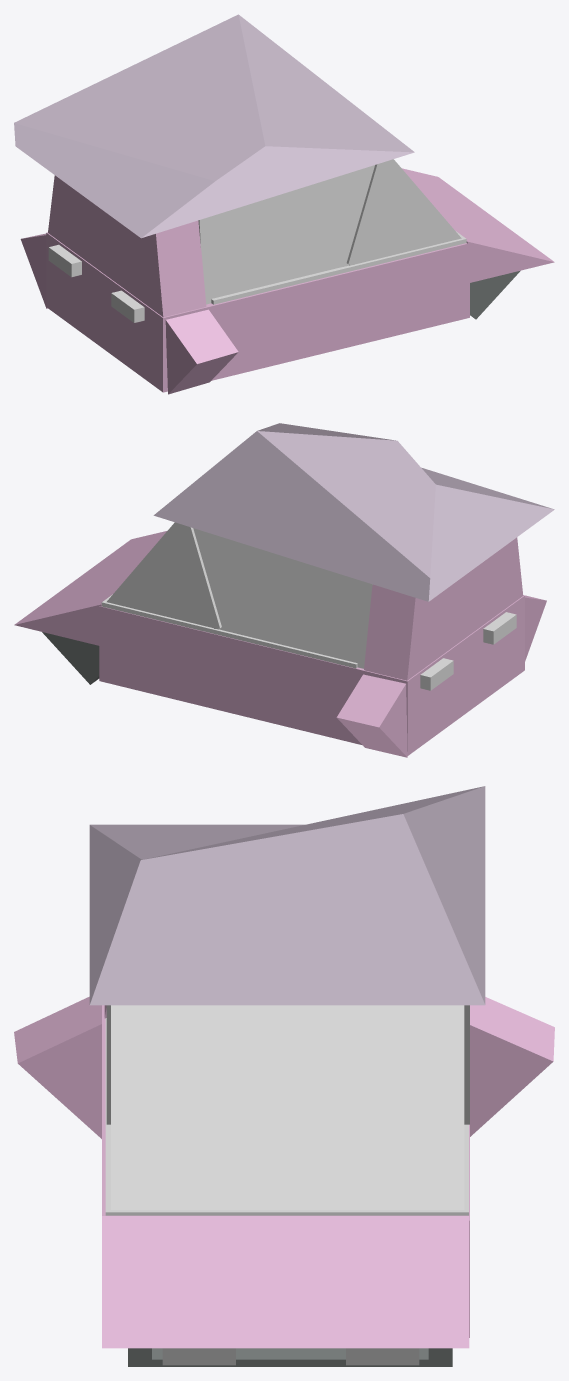
The model's file is cabv3.fbx.
The picture shows the model from 3 angles, top to bottom: view 1: azimuth 30°, elevation 25°; view 2: azimuth 150°, elevation 25°; view 3: azimuth 270°, elevation 25°; orthographic projection. The views are drawn at different scales.
Visible parts, largest first — view 1: Cube.010, Cube, Cube.007, Cube.013, Cube.012, Cube.006, Cube.001, Cube.014, Cube.008, Cube.002, Cube.011, Cube.009 (+2 smaller); view 2: Cube.010, Cube, Cube.007, Cube.013, Cube.012, Cube.006, Cube.001, Cube.011, Cube.008, Cube.002, Cube.009, Cube.014 (+2 smaller); view 3: Cube.010, Cube.006, Cube.001, Cube.014, Cube.011, Cube.002, Cube.008, Cube.003, Cube.004, Cube.009, Cube.
Part boxes in pixels (left/top/right/bottom): Cube.010: left=14, top=14, right=414, bottom=238; Cube: left=210, top=243, right=469, bottom=380; Cube.007: left=198, top=165, right=374, bottom=304; Cube.013: left=48, top=175, right=206, bottom=317; Cube.012: left=46, top=232, right=228, bottom=392; Cube.006: left=349, top=159, right=461, bottom=265; Cube.001: left=402, top=168, right=554, bottom=283; Cube.014: left=165, top=309, right=238, bottom=394; Cube.008: left=211, top=231, right=466, bottom=304; Cube.002: left=470, top=270, right=520, bottom=319; Cube.011: left=20, top=233, right=47, bottom=308; Cube.009: left=346, top=162, right=383, bottom=264; Cube.010: left=153, top=423, right=554, bottom=601; Cube: left=99, top=606, right=357, bottom=743; Cube.007: left=193, top=528, right=372, bottom=668; Cube.013: left=364, top=537, right=523, bottom=680; Cube.012: left=341, top=595, right=524, bottom=755; Cube.006: left=107, top=522, right=218, bottom=629; Cube.001: left=14, top=531, right=166, bottom=645; Cube.011: left=336, top=674, right=407, bottom=757; Cube.008: left=101, top=594, right=357, bottom=668; Cube.002: left=42, top=632, right=99, bottom=684; Cube.009: left=184, top=525, right=221, bottom=628; Cube.014: left=523, top=595, right=546, bottom=661; Cube.010: left=89, top=786, right=485, bottom=1005; Cube.006: left=111, top=1005, right=464, bottom=1209; Cube.001: left=102, top=1215, right=469, bottom=1348; Cube.014: left=14, top=996, right=101, bottom=1138; Cube.011: left=470, top=997, right=554, bottom=1136; Cube.002: left=128, top=1348, right=452, bottom=1366; Cube.008: left=105, top=1018, right=468, bottom=1215; Cube.003: left=162, top=1348, right=235, bottom=1365; Cube.004: left=346, top=1348, right=419, bottom=1365; Cube.009: left=106, top=1005, right=469, bottom=1124; Cube: left=102, top=1023, right=469, bottom=1337.
Size of the model in its own units: 420 by 267 by 298.
